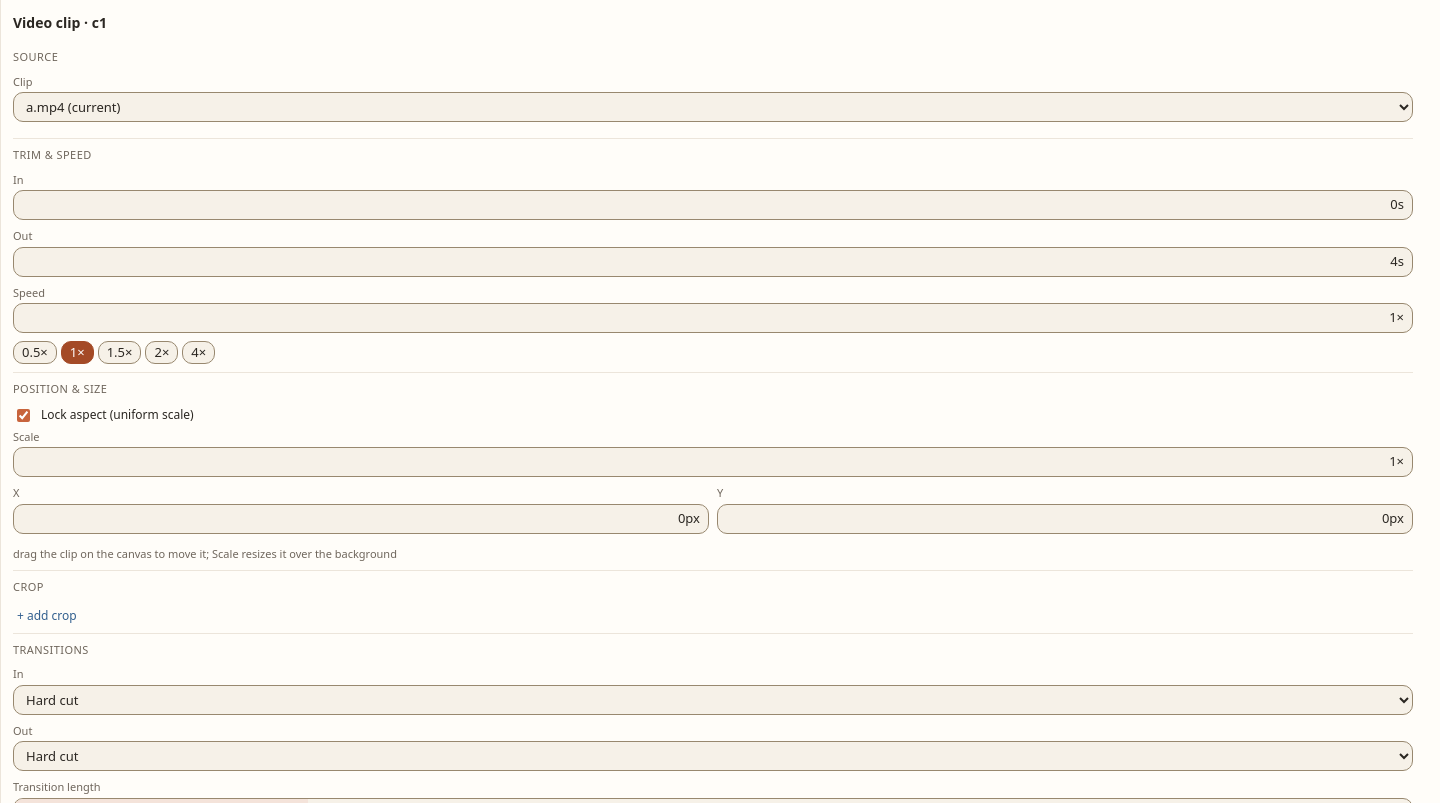
Test: ScrubField: drag to adjust, click to type (manual entry preserved) › a bare click (no movement) does NOT snapshot or live-update — it just opens the input
Press the mouse on the slider named "Out" at (713, 262), box 13,246 -> 1413,276
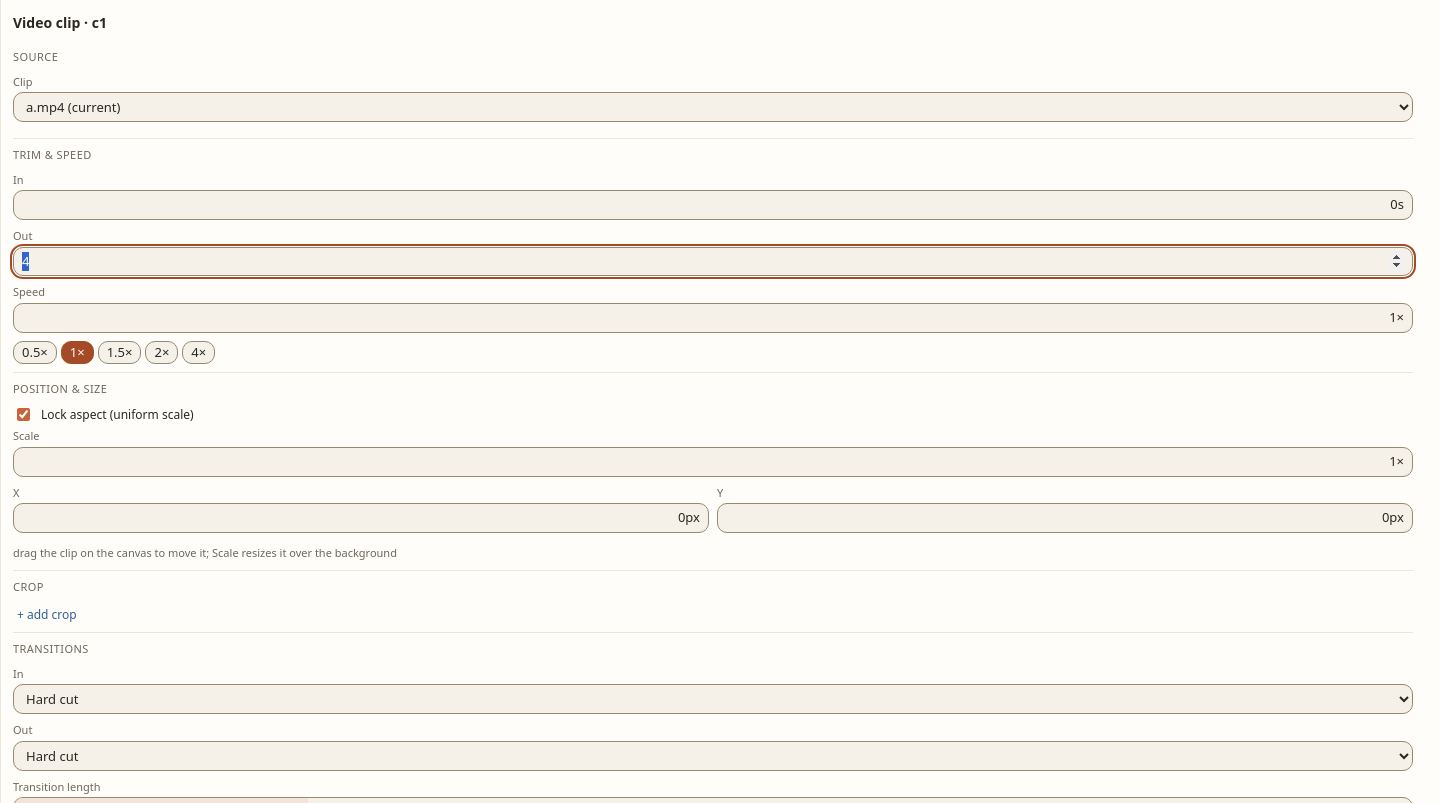
Check: the number field showing "4" is shown, box 13,246 -> 1413,276
